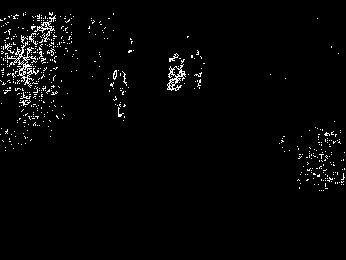person: (107, 64, 132, 121)
